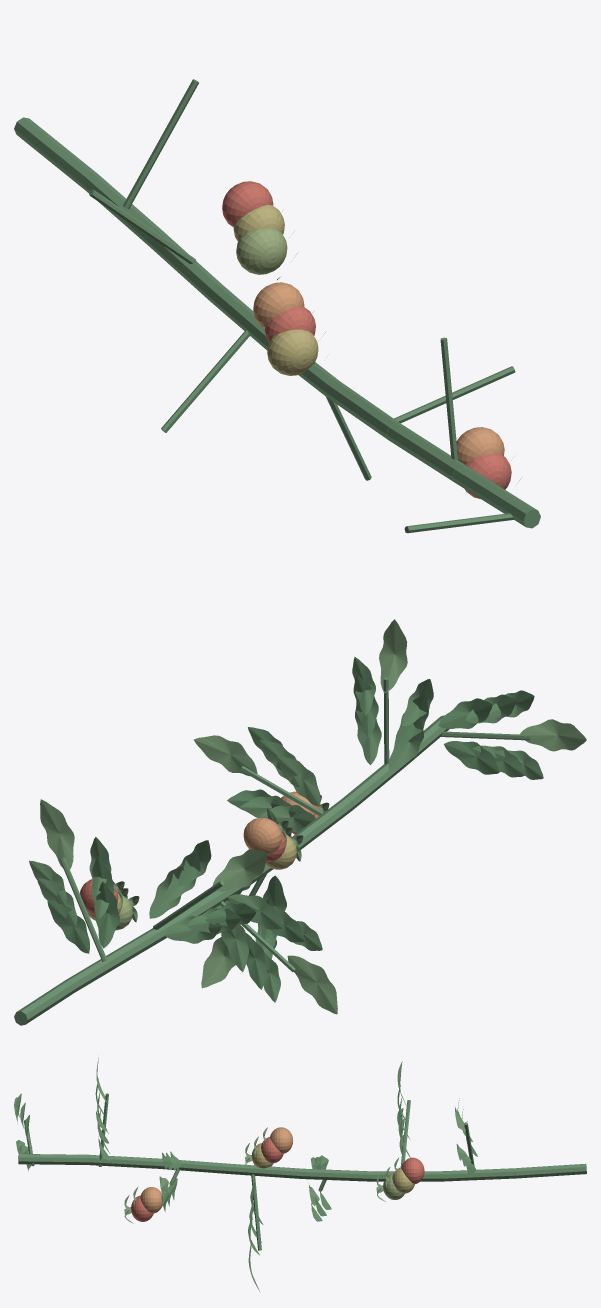
Rendered from tomato_c.glb.
3 renders of one model, top to bottom at view 1: azimuth 30°, elevation 25°; view 2: azimuth 150°, elevation 25°; view 3: azimuth 270°, elevation 25°, orthographic. The views are drawn at different scales.
Visible parts, largest first — view 1: Stem, FruitMid, FruitRed, FruitGreen; view 2: Leaves, Stem, FruitMid, Calyx, FruitRed; view 3: Stem, Leaves, FruitMid, FruitRed, Calyx.
Boxes of the visible parts, bbox=[...] form: Stem: bbox=[14, 79, 540, 533]; FruitMid: bbox=[233, 204, 504, 464]; FruitRed: bbox=[222, 181, 511, 499]; FruitGreen: bbox=[236, 228, 287, 274]; Leaves: bbox=[29, 619, 586, 1014]; Stem: bbox=[14, 677, 531, 1025]; FruitMid: bbox=[87, 791, 315, 920]; Calyx: bbox=[112, 795, 329, 922]; FruitRed: bbox=[80, 805, 320, 915]; Stem: bbox=[18, 1093, 586, 1250]; Leaves: bbox=[14, 1057, 477, 1292]; FruitMid: bbox=[140, 1127, 414, 1213]; FruitRed: bbox=[131, 1137, 424, 1221]; Calyx: bbox=[124, 1127, 398, 1223].
Bounding box in the file's own units: 0.661 × 0.6611 × 1.61.
